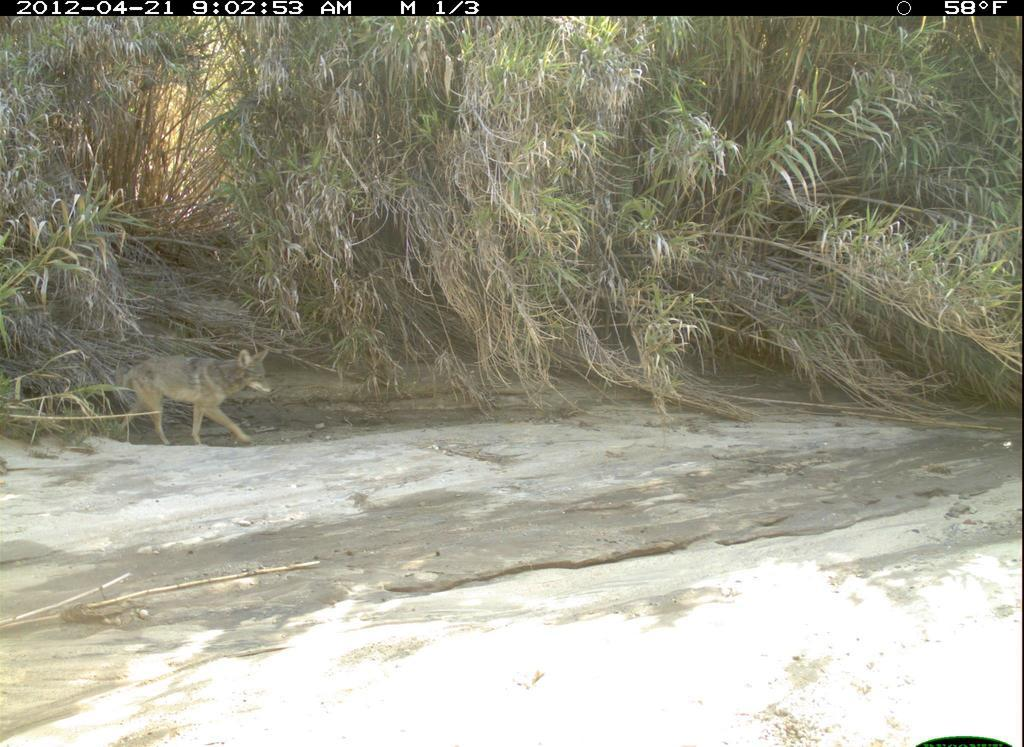coyote: (99, 340, 285, 456)
